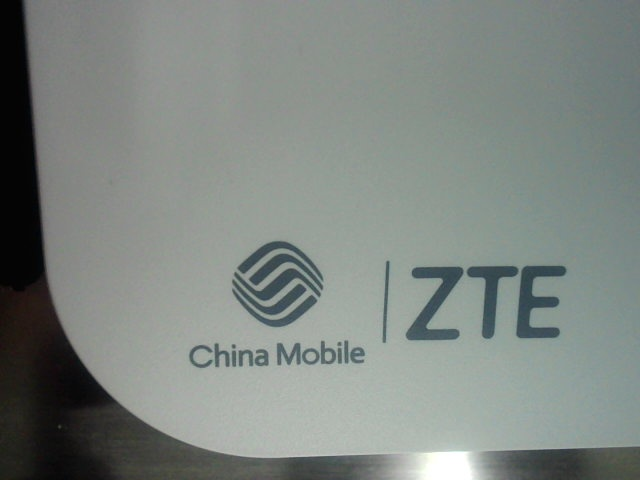AL_ZTEChinaMobile: (172, 235, 597, 372)
